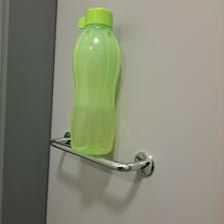bottle: (67, 7, 124, 154)
